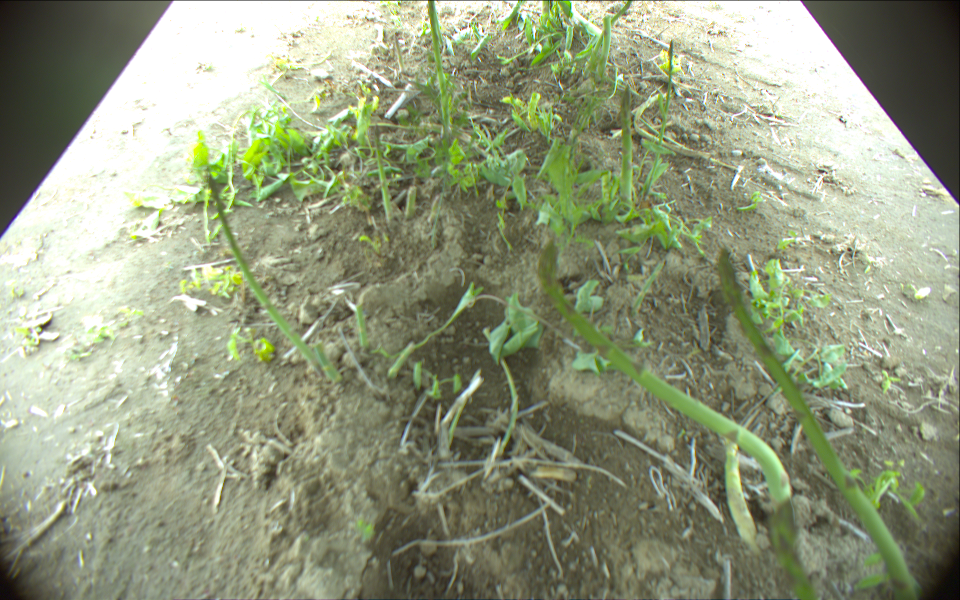aspa: (714, 247, 912, 599), (532, 240, 791, 507), (201, 164, 328, 376), (644, 38, 678, 198), (481, 327, 519, 465), (724, 435, 760, 543), (588, 1, 630, 66), (371, 122, 396, 218), (427, 1, 447, 95), (617, 83, 633, 200), (314, 341, 344, 380), (350, 298, 370, 351), (596, 15, 612, 77), (394, 31, 405, 75), (404, 184, 418, 217), (429, 194, 441, 222)
